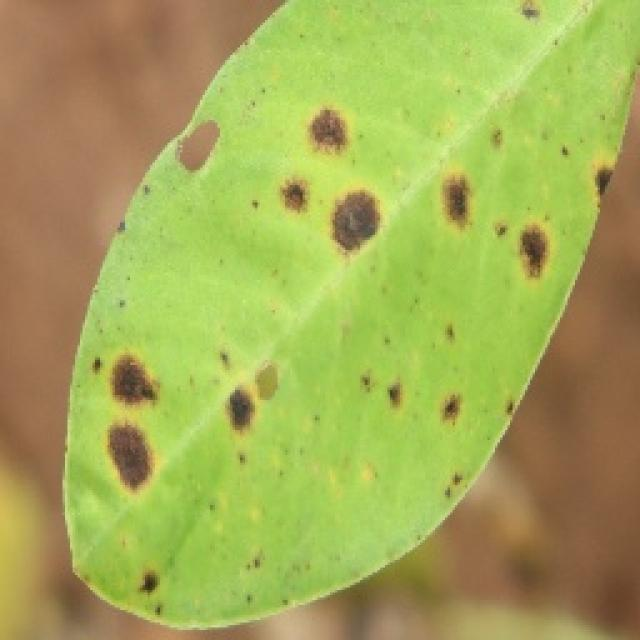Yellowish: (73, 48, 627, 557)
